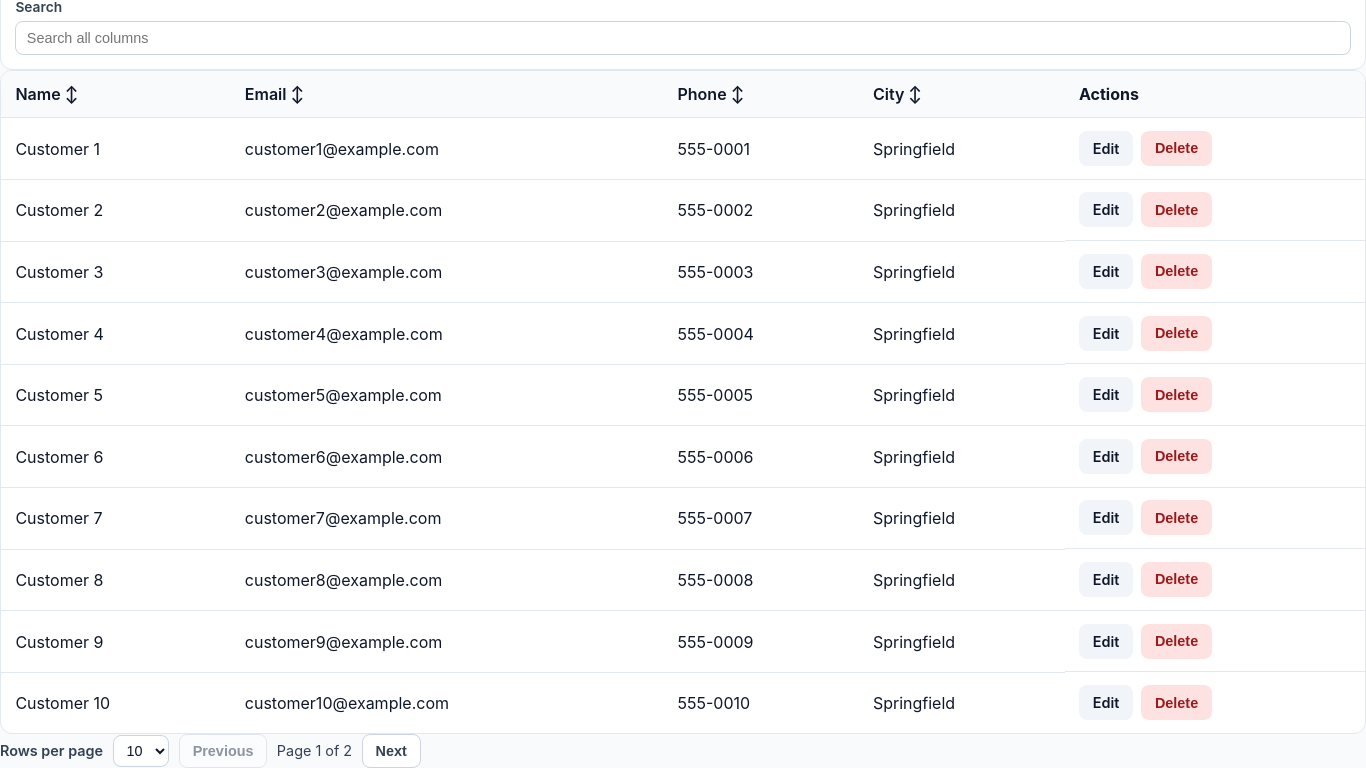
Test: CustomerList › shows 10 rows per page by default and moves to the next page
This screenshot has width=1366, height=768.
(page scrolled)
Expected: the text "Page 1 of 2" is shown, top-left (277, 742), bottom-right (352, 759)
Expected: the button "Previous" is disabled, top-left (179, 734), bottom-right (267, 767)
Click the button "Next". click: (391, 751)
box: top-left (362, 734), bottom-right (420, 767)
(page scrolled)
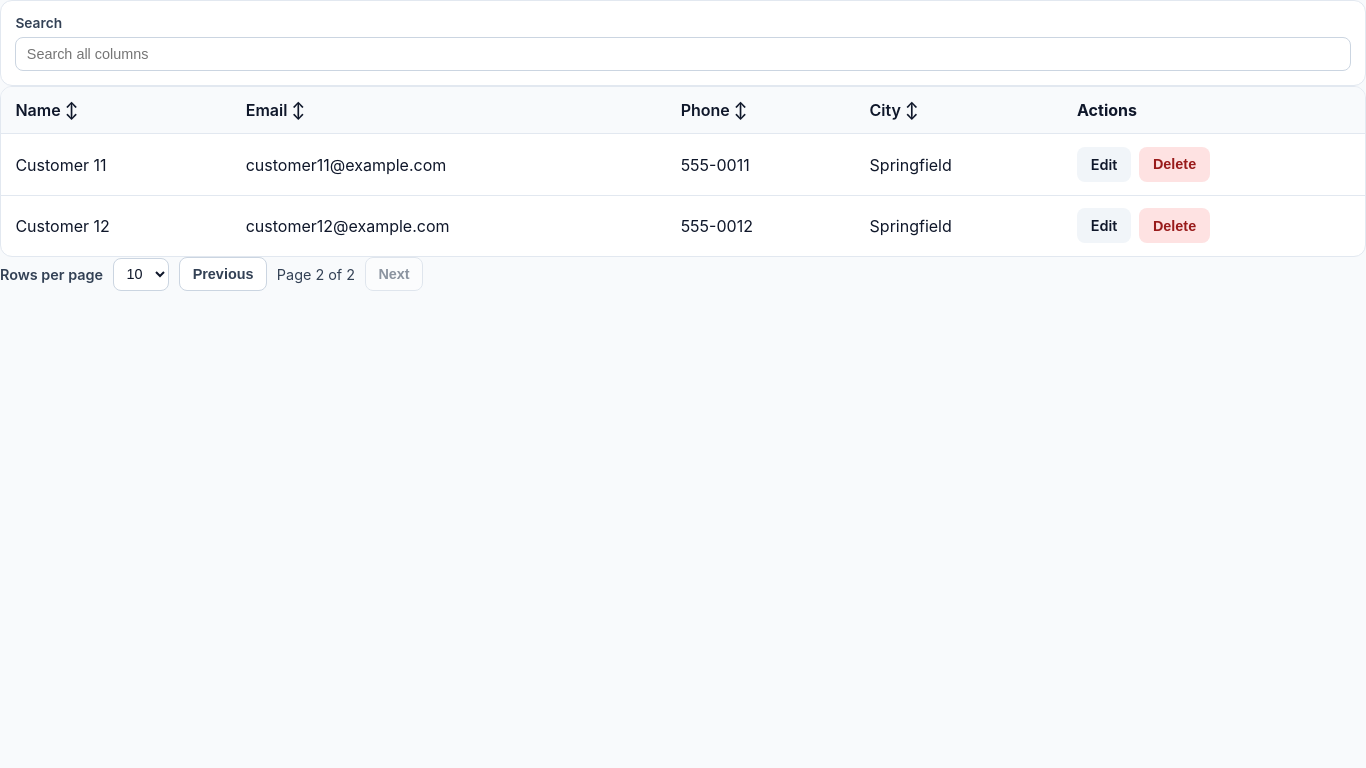
Now the text "Page 2 of 2" is shown, box top-left (277, 266), bottom-right (355, 283)
Now the button "Previous" is enabled, box top-left (179, 257), bottom-right (267, 291)
Now the button "Next" is disabled, box top-left (365, 257), bottom-right (423, 291)
